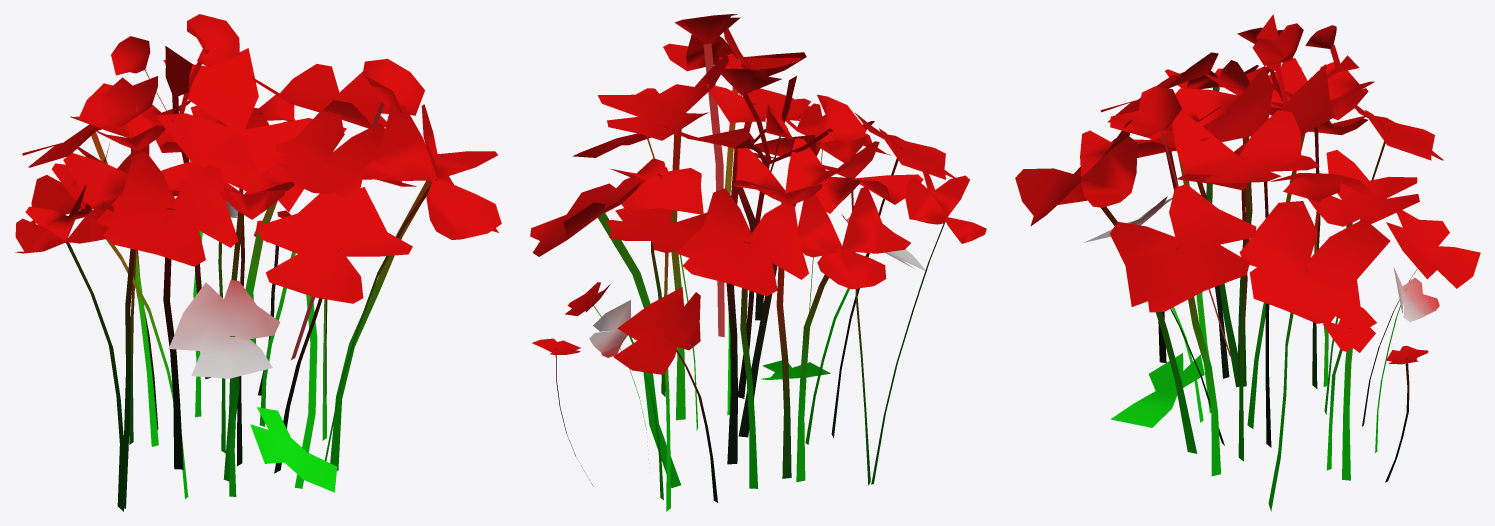
Rendered from Var1_LOD1.fbx.
The picture shows the model from 3 angles, left to right: view 1: azimuth 30°, elevation 25°; view 2: azimuth 150°, elevation 25°; view 3: azimuth 270°, elevation 25°; orthographic projection. The views are drawn at different scales.
Parts seen in each view (by area): view 1: _8f44_Var1_LOD1; view 2: _8f44_Var1_LOD1; view 3: _8f44_Var1_LOD1.
Boxes of the visible parts, bbox=[...] form: _8f44_Var1_LOD1: bbox=[15, 14, 501, 511]; _8f44_Var1_LOD1: bbox=[530, 14, 986, 511]; _8f44_Var1_LOD1: bbox=[1015, 14, 1480, 511].
Size of the model in its own units: 27.43 by 28.51 by 27.12.
